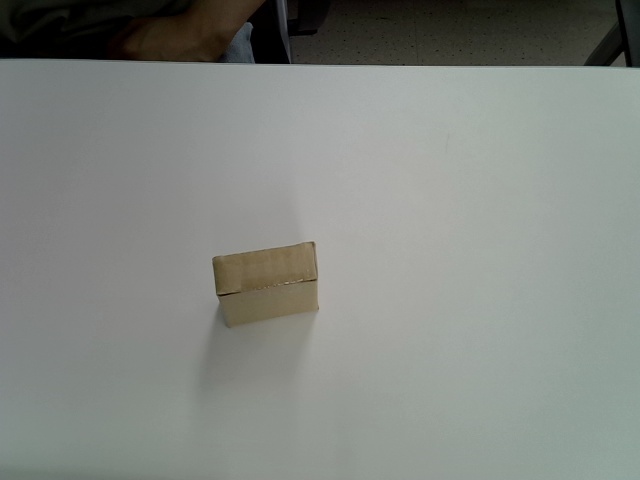normal: (212, 241, 321, 327)
